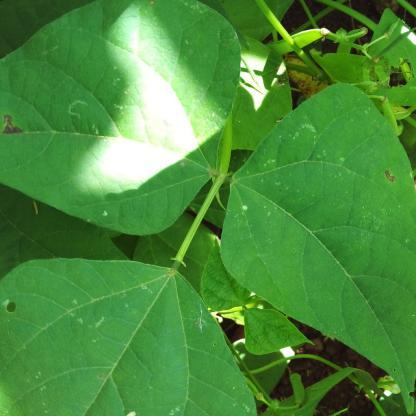Beans_Angular_LeafSpot: (226, 83, 416, 410), (0, 0, 237, 228), (4, 254, 249, 416)
